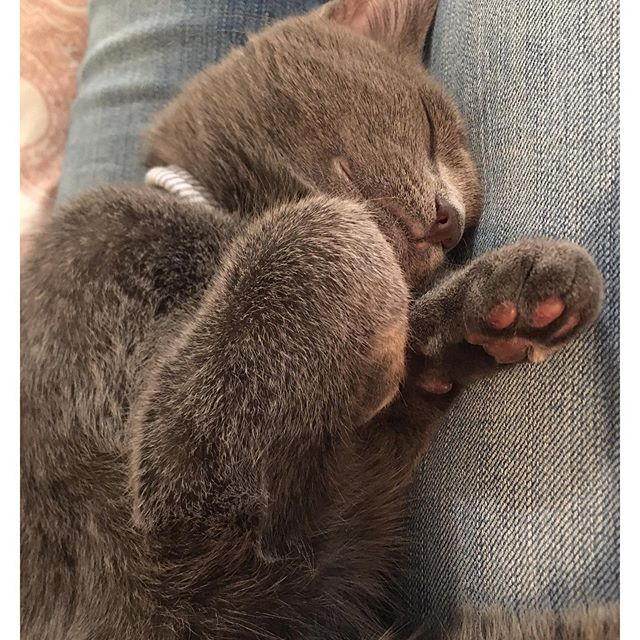cat: (167, 1, 490, 323)
